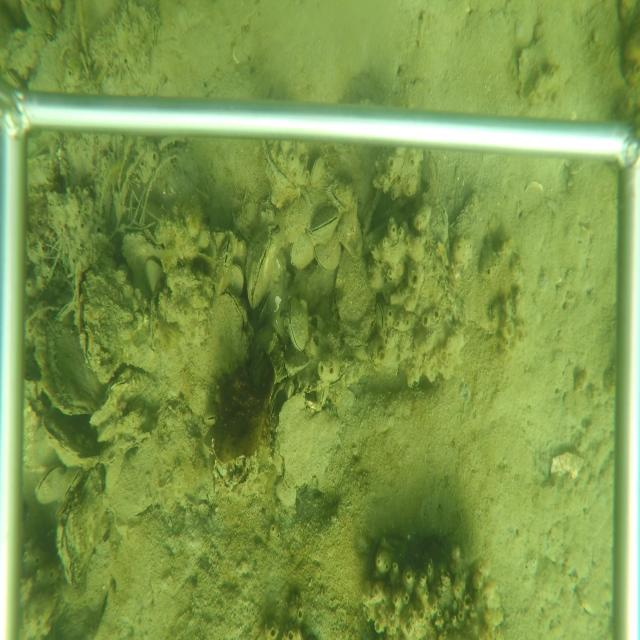Oyster-Closed: (274, 395, 348, 496), (55, 474, 110, 592), (38, 414, 101, 473), (246, 220, 281, 309), (258, 142, 303, 204), (121, 230, 163, 286), (215, 286, 249, 354), (104, 429, 147, 466), (33, 468, 71, 509), (312, 226, 343, 276), (18, 4, 57, 42), (286, 295, 311, 352), (289, 225, 316, 268), (310, 207, 340, 244), (215, 236, 234, 292), (328, 183, 352, 213), (228, 263, 246, 292), (309, 156, 324, 186), (262, 330, 278, 357), (4, 69, 25, 87)
Oyster-Indeterminate: (37, 311, 101, 418), (334, 244, 378, 347), (87, 392, 120, 428)
